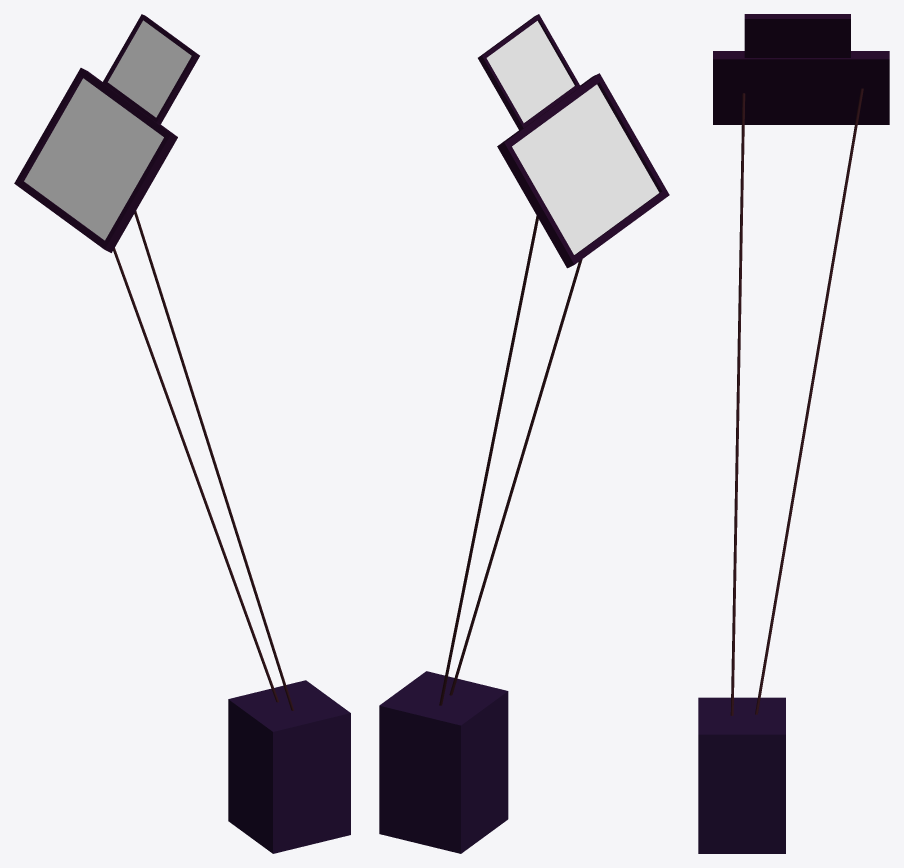
Rendered from screen_video.glb.
3 renders of one model, left to right at view 1: azimuth 30°, elevation 25°; view 2: azimuth 150°, elevation 25°; view 3: azimuth 270°, elevation 25°, orthographic. The views are drawn at different scales.
Parts seen in each view (by area): view 1: building, screen video, structure, screen text, bar 2, bar 1, structure screen text; view 2: building, screen video, structure, screen text, bar 1, structure screen text, bar 2; view 3: building, structure, structure screen text, bar 1, bar 2.
Part boxes in pixels (box(x1,y1,x2,y2)): building: box(228, 680, 350, 853); screen video: box(24, 78, 163, 240); structure: box(14, 68, 177, 252); screen text: box(108, 20, 191, 117); bar 2: box(134, 211, 293, 710); bar 1: box(113, 248, 278, 702); structure screen text: box(102, 14, 199, 124); building: box(379, 671, 508, 853); screen video: box(512, 84, 659, 254); structure: box(497, 73, 669, 268); screen text: box(486, 21, 574, 122); bar 1: box(439, 215, 538, 705); structure screen text: box(478, 14, 580, 130); bar 2: box(449, 259, 582, 695); building: box(698, 697, 785, 853); structure: box(713, 51, 889, 124); structure screen text: box(744, 14, 850, 57); bar 1: box(755, 88, 863, 714); bar 2: box(730, 93, 745, 715).
Size of the model in its own units: 6.14 by 19.57 by 4.37.
